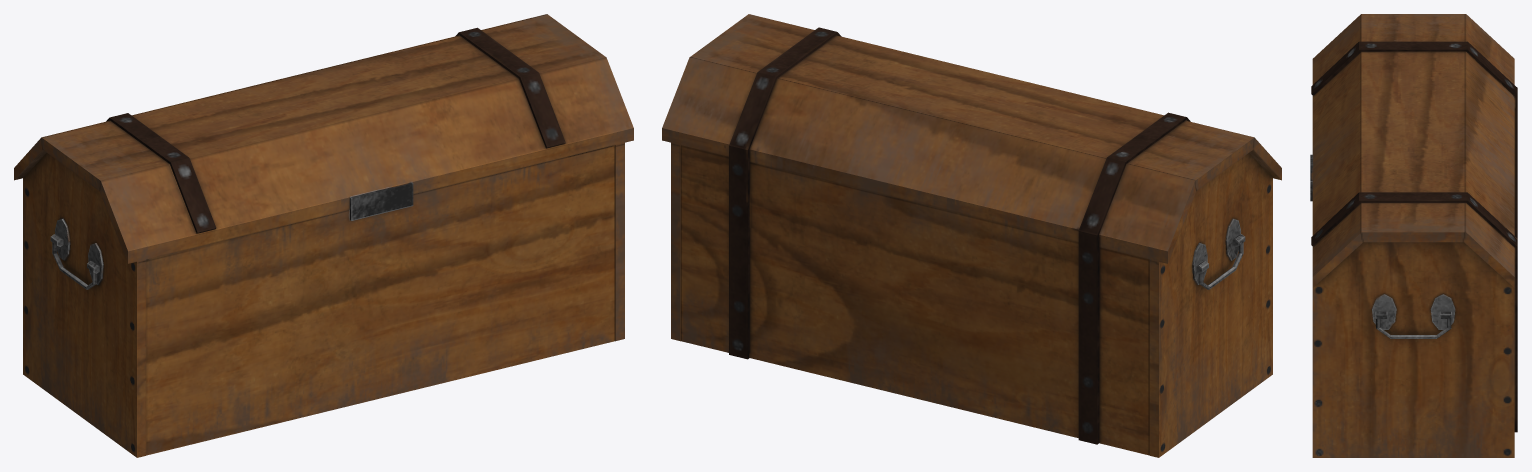
Rendered from Chest.fbx.
3 views of the same model, side by side, from view 1: azimuth 30°, elevation 25°; view 2: azimuth 150°, elevation 25°; view 3: azimuth 270°, elevation 25° (orthographic). The views are drawn at different scales.
Parts seen in each view (by area): view 1: Chest; view 2: Chest; view 3: Chest.
Boxes of the visible parts, x1,y1,x2,y2 form: Chest: [14, 14, 633, 457]; Chest: [662, 14, 1281, 457]; Chest: [1310, 14, 1517, 457].
Size of the model in its own units: 26.95 by 13.33 by 10.83.
